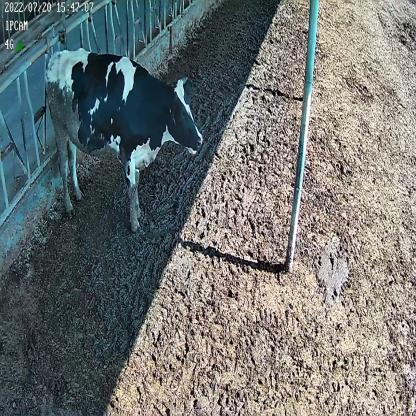cow: (46, 47, 202, 236)
